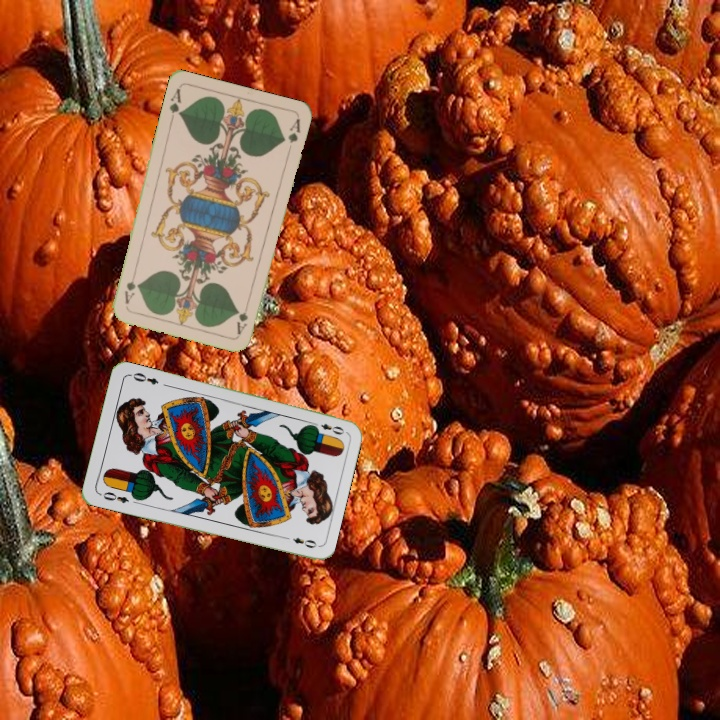EO: (307, 418, 347, 437), (99, 488, 131, 506)
GA: (165, 84, 184, 124), (233, 297, 252, 337)
